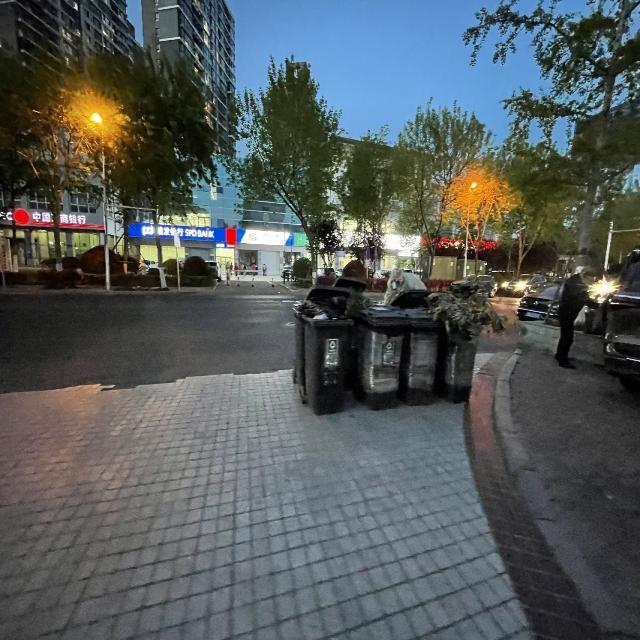garbage_bin: (351, 303, 410, 411)
overflow: (434, 279, 504, 398), (293, 286, 352, 415), (398, 308, 437, 406)
